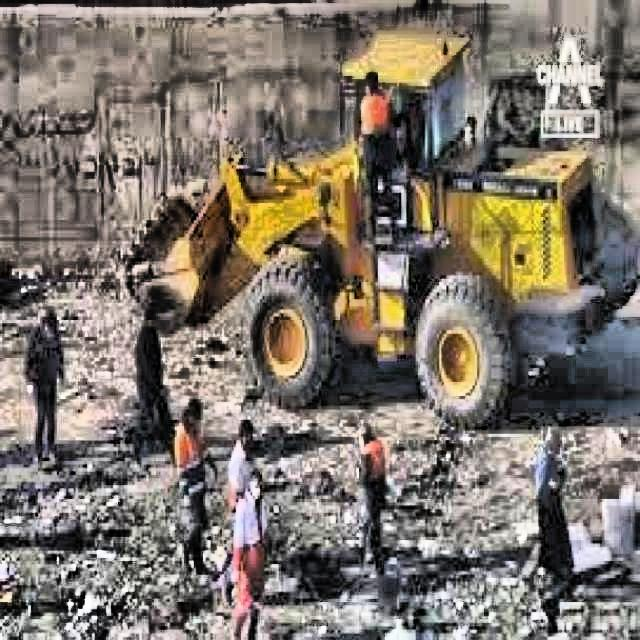bull_dozer/loader/grader: (122, 28, 640, 430)
person: (352, 68, 402, 258), (24, 301, 66, 467), (173, 398, 211, 577), (538, 459, 575, 640), (234, 471, 267, 640), (356, 418, 388, 574), (534, 424, 568, 566), (136, 308, 166, 450), (227, 420, 256, 515)
